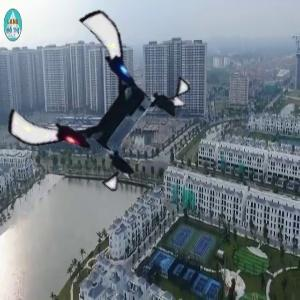drone: (19, 28, 178, 187)
